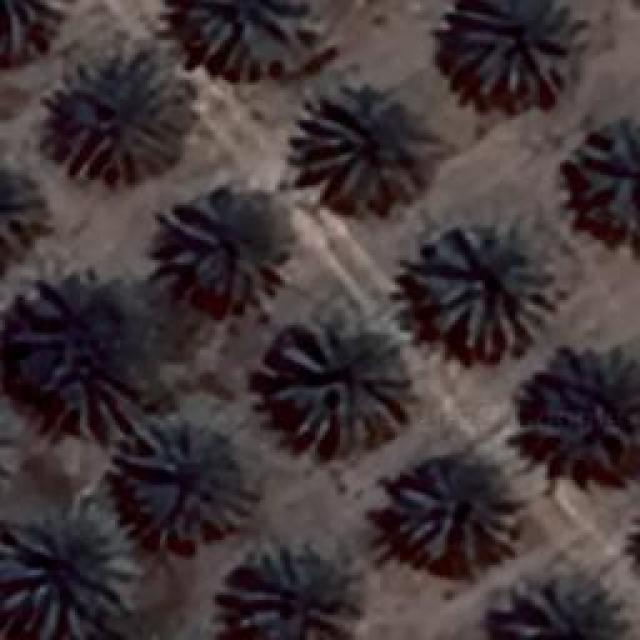PalmTree: (265, 310, 413, 455), (410, 222, 562, 360), (0, 499, 142, 632), (120, 412, 252, 546), (295, 85, 430, 210), (74, 72, 128, 351), (58, 58, 180, 180), (390, 460, 520, 570), (522, 340, 636, 465), (165, 195, 288, 308), (222, 542, 360, 638), (450, 0, 570, 98), (190, 0, 312, 78), (500, 578, 635, 638), (570, 118, 638, 232), (0, 158, 45, 268), (0, 383, 23, 510), (0, 382, 16, 514)
